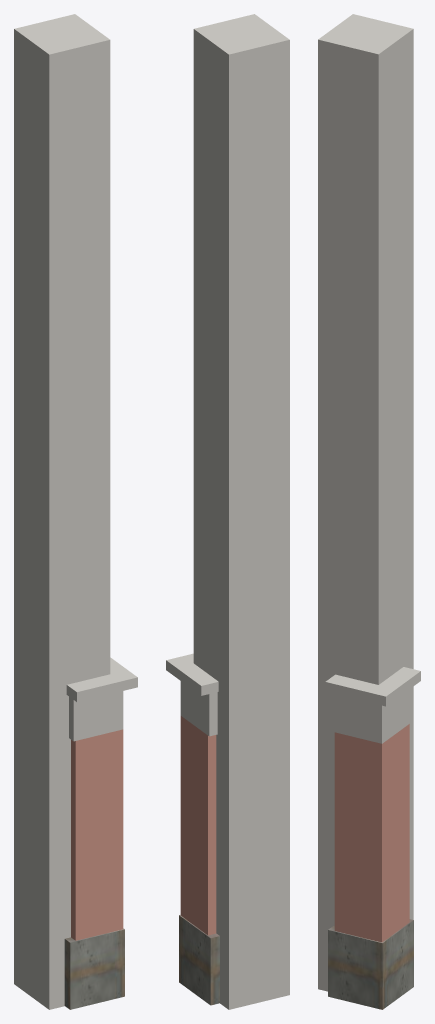
File: corner_g_a.glb
The picture shows the model from 3 angles, left to right: view 1: azimuth 30°, elevation 25°; view 2: azimuth 210°, elevation 25°; view 3: azimuth 330°, elevation 25°; orthographic projection.
Visible parts, largest first — view 1: corner_g_a_trim, corner_g_a_acc_a, corner_g_a_plinth; view 2: corner_g_a_trim, corner_g_a_acc_a, corner_g_a_plinth; view 3: corner_g_a_trim, corner_g_a_acc_a, corner_g_a_plinth.
Boxes of the visible parts, box(x1,y1,x2,y2) form: corner_g_a_trim: box(14, 14, 137, 1009); corner_g_a_acc_a: box(71, 729, 123, 940); corner_g_a_plinth: box(64, 928, 124, 1009); corner_g_a_trim: box(166, 14, 289, 1009); corner_g_a_acc_a: box(180, 716, 216, 935); corner_g_a_plinth: box(179, 915, 219, 1005); corner_g_a_trim: box(318, 14, 420, 991); corner_g_a_acc_a: box(334, 724, 409, 942); corner_g_a_plinth: box(328, 919, 413, 1009).
Bounding box in the file's own units: 0.386 × 4.49 × 0.386.
3 materials, 1 textured.
